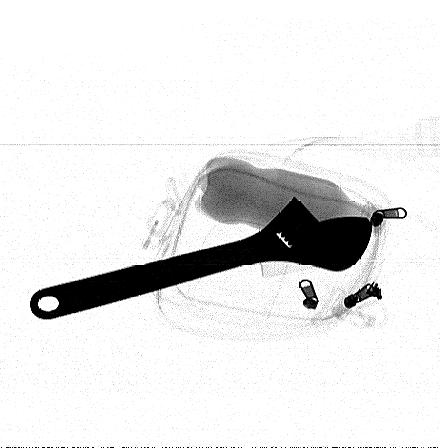Wrench: (29, 190, 374, 321)
